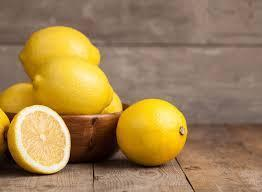lemon: (116, 98, 188, 166), (33, 56, 113, 114), (18, 26, 102, 81), (8, 104, 71, 174), (0, 82, 32, 112), (0, 108, 10, 156)
